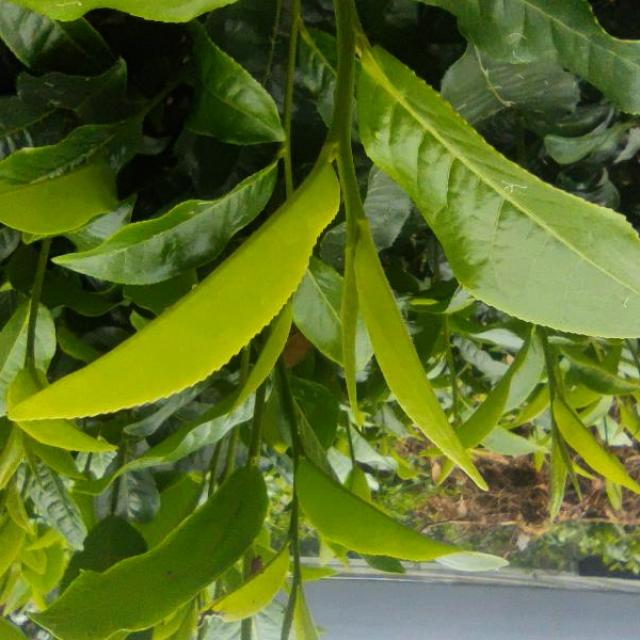Stem: (346, 201, 362, 221), (281, 142, 289, 156)
